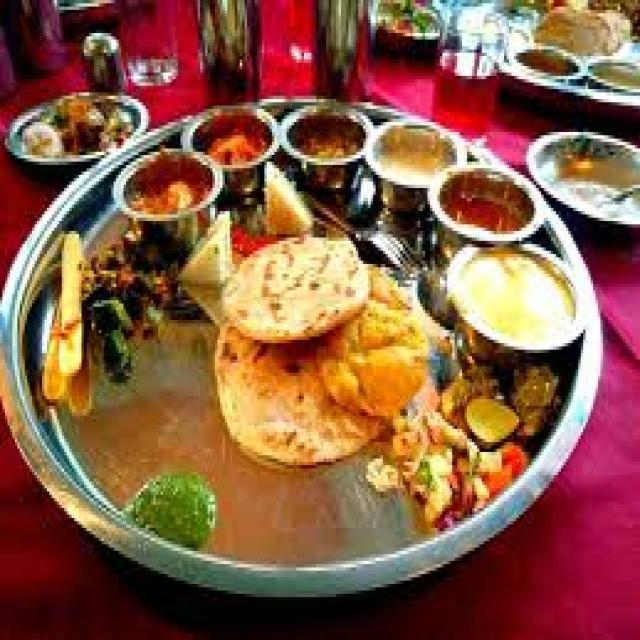dal: (435, 164, 541, 238)
rice: (230, 266, 430, 478), (222, 224, 370, 349)
roti: (228, 266, 438, 478)
sambar-rasam: (437, 164, 539, 236)
sweet: (187, 103, 276, 177)
veg-fry: (114, 140, 220, 225)
